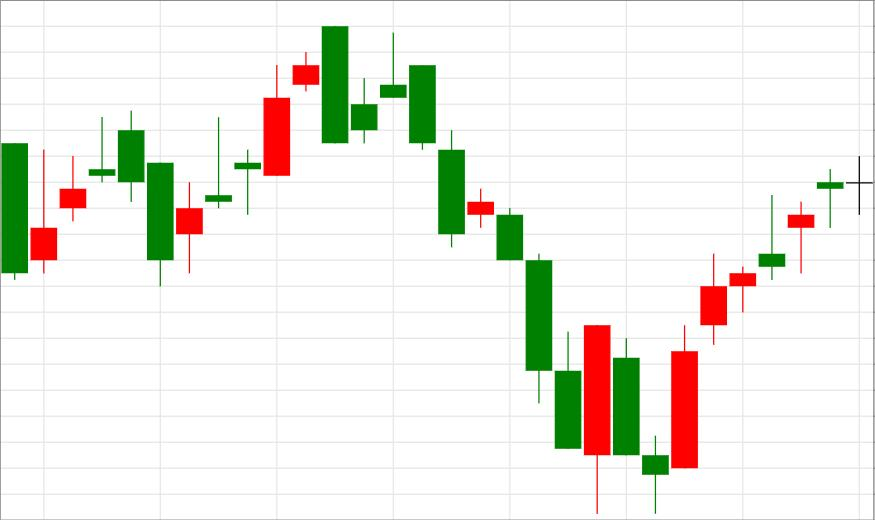bullish_engulfing_rise: (381, 32, 611, 514)
